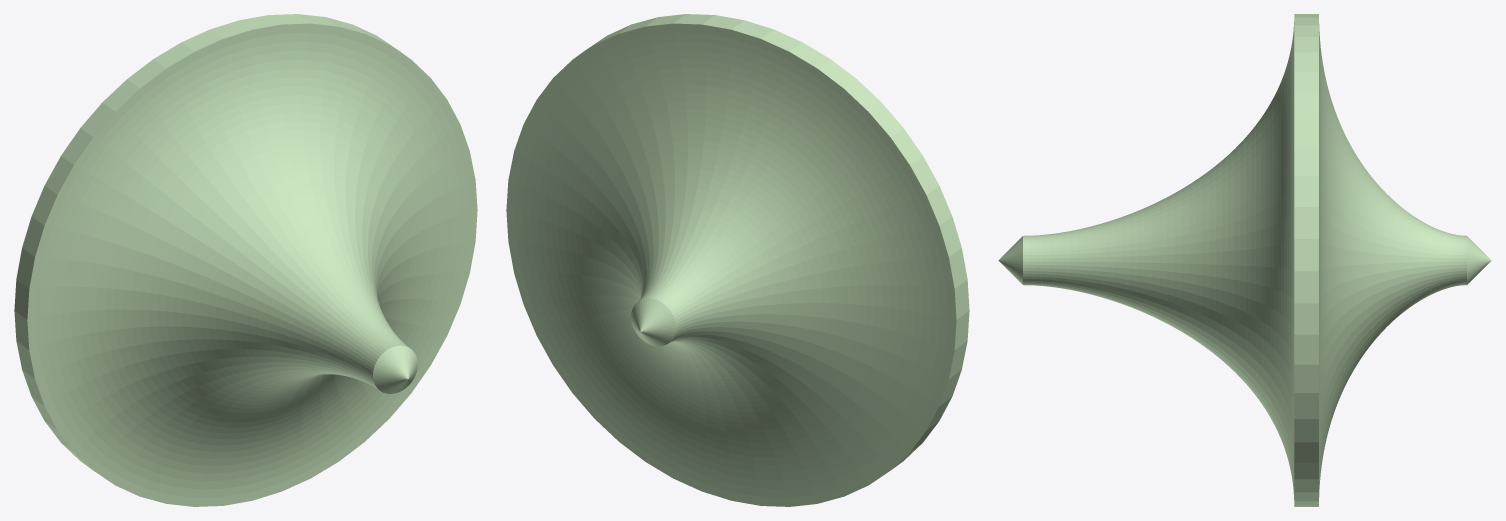
The model's file is tinker.obj.
3 views of the same model, side by side, from view 1: azimuth 30°, elevation 25°; view 2: azimuth 150°, elevation 25°; view 3: azimuth 270°, elevation 25° (orthographic). The views are drawn at different scales.
Parts seen in each view (by area): view 1: obj_0; view 2: obj_0; view 3: obj_0.
Boxes of the visible parts, box(x1,y1,x2,y2) form: obj_0: box(14, 14, 477, 506); obj_0: box(506, 14, 969, 506); obj_0: box(998, 14, 1491, 506).
Size of the model in its own units: 20 by 20 by 20.
